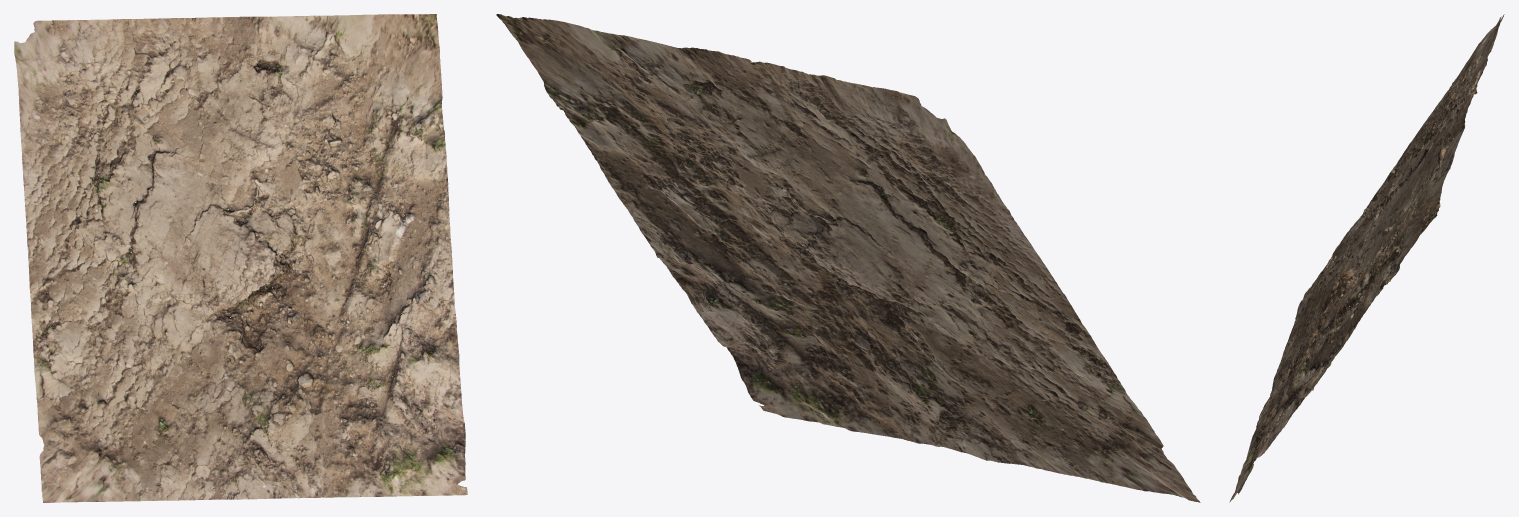
File: dirty_ground_floor_01 (1).glb
3 views of the same model, side by side, from view 1: azimuth 30°, elevation 25°; view 2: azimuth 150°, elevation 25°; view 3: azimuth 270°, elevation 25° (orthographic). The views are drawn at different scales.
Visible parts, largest first — view 1: Object_2, Object_4, Object_3, Object_6, Object_7, Object_8, Object_5; view 2: Object_2, Object_4, Object_3, Object_7, Object_8, Object_6, Object_5; view 3: Object_2, Object_4, Object_3, Object_7, Object_6, Object_8, Object_5.
Part boxes in pixels (left/top/right/bottom): Object_2: left=14, top=14, right=467, bottom=502; Object_4: left=36, top=18, right=419, bottom=502; Object_3: left=15, top=19, right=465, bottom=478; Object_6: left=191, top=21, right=465, bottom=498; Object_7: left=59, top=14, right=465, bottom=499; Object_8: left=64, top=14, right=439, bottom=502; Object_5: left=131, top=17, right=449, bottom=496; Object_2: left=496, top=14, right=1200, bottom=502; Object_4: left=562, top=48, right=1195, bottom=501; Object_3: left=525, top=53, right=1173, bottom=466; Object_7: left=503, top=15, right=1100, bottom=464; Object_8: left=500, top=17, right=1180, bottom=496; Object_6: left=532, top=25, right=964, bottom=452; Object_5: left=531, top=35, right=1010, bottom=445; Object_2: left=1229, top=14, right=1504, bottom=502; Object_4: left=1282, top=58, right=1485, bottom=380; Object_3: left=1239, top=24, right=1498, bottom=492; Object_7: left=1231, top=33, right=1495, bottom=498; Object_6: left=1238, top=151, right=1441, bottom=493; Object_8: left=1270, top=85, right=1476, bottom=395; Object_5: left=1259, top=116, right=1463, bottom=427.
Size of the model in its own units: 5.84 by 5.06 by 3.4.
1 material, 1 textured.
